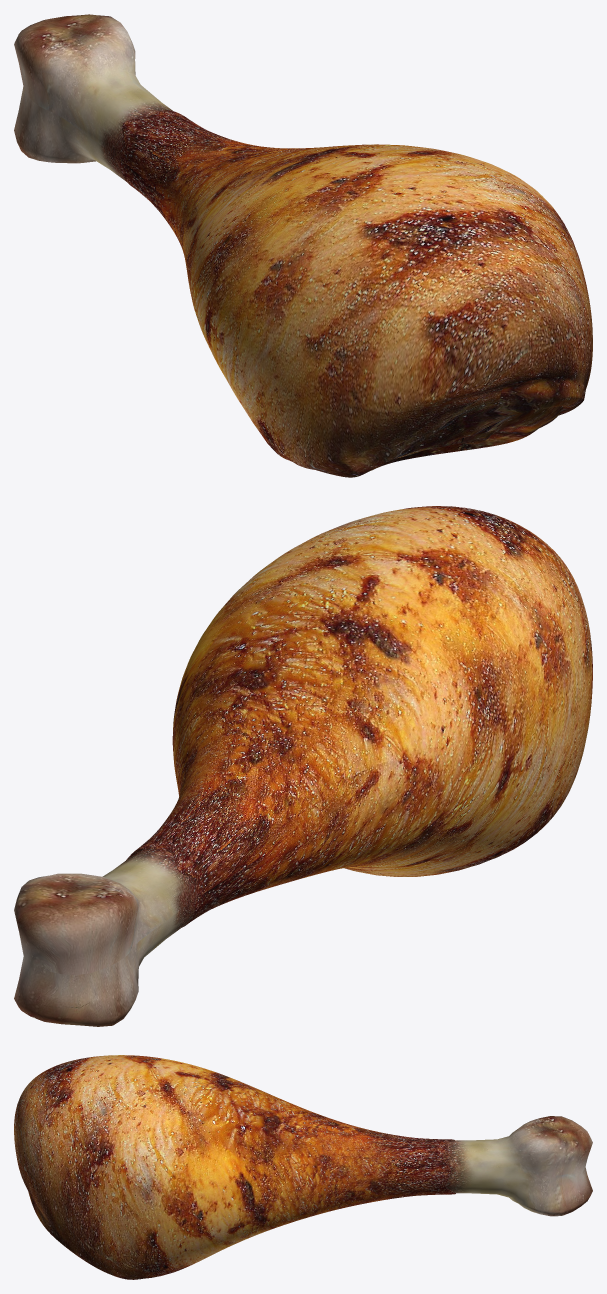
Rendered from 10870_turkey_leg_v1_L3.obj.
3 views of the same model, one above another, from view 1: azimuth 30°, elevation 25°; view 2: azimuth 150°, elevation 25°; view 3: azimuth 270°, elevation 25° (orthographic). The views are drawn at different scales.
Parts seen in each view (by area): view 1: meat, bone; view 2: meat, bone; view 3: meat, bone.
Boxes of the visible parts, x1,y1,x2,y2 form: meat: [119, 110, 592, 477]; bone: [14, 14, 172, 181]; meat: [126, 506, 592, 927]; bone: [14, 849, 197, 1026]; meat: [14, 1055, 455, 1279]; bone: [443, 1116, 592, 1216].
Bounding box in the file's own units: 92.55 × 81.49 × 227.
Materials: 2 (2 with a texture image).
